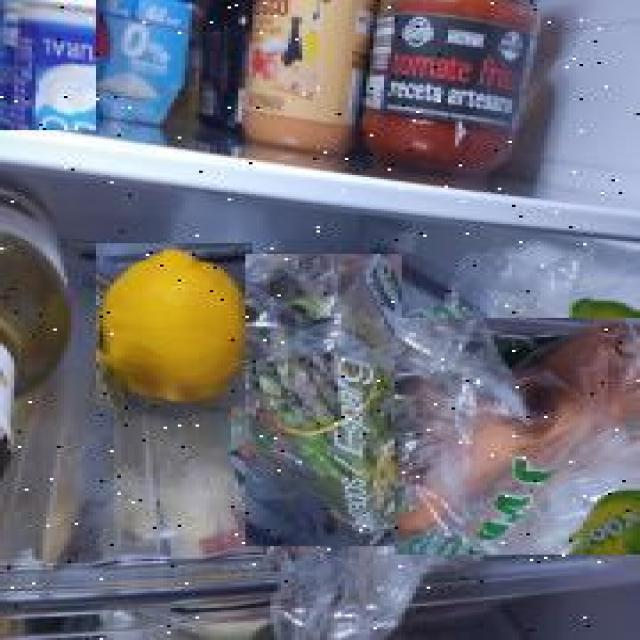asparagus: (247, 254, 404, 546)
carrot: (394, 318, 640, 555)
lemon: (96, 243, 252, 408)
tomato_sauce: (358, 0, 542, 175)
yogurt: (98, 1, 197, 129), (0, 0, 96, 130)
